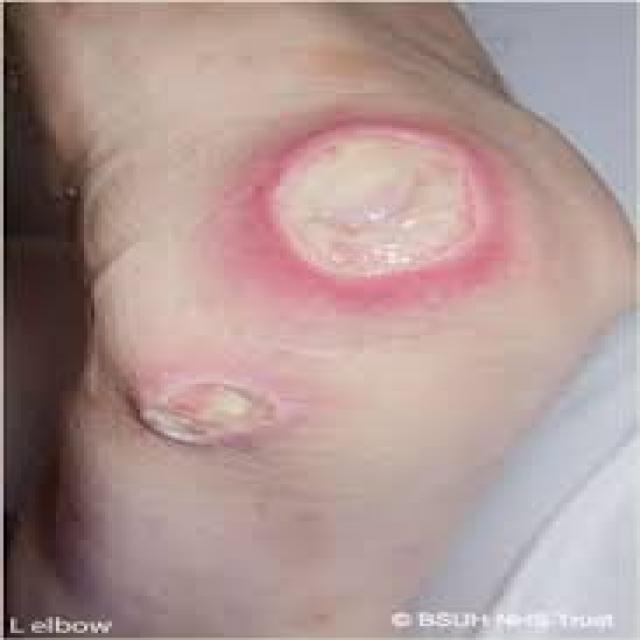Unstageable: (268, 130, 495, 280), (161, 382, 259, 444)
